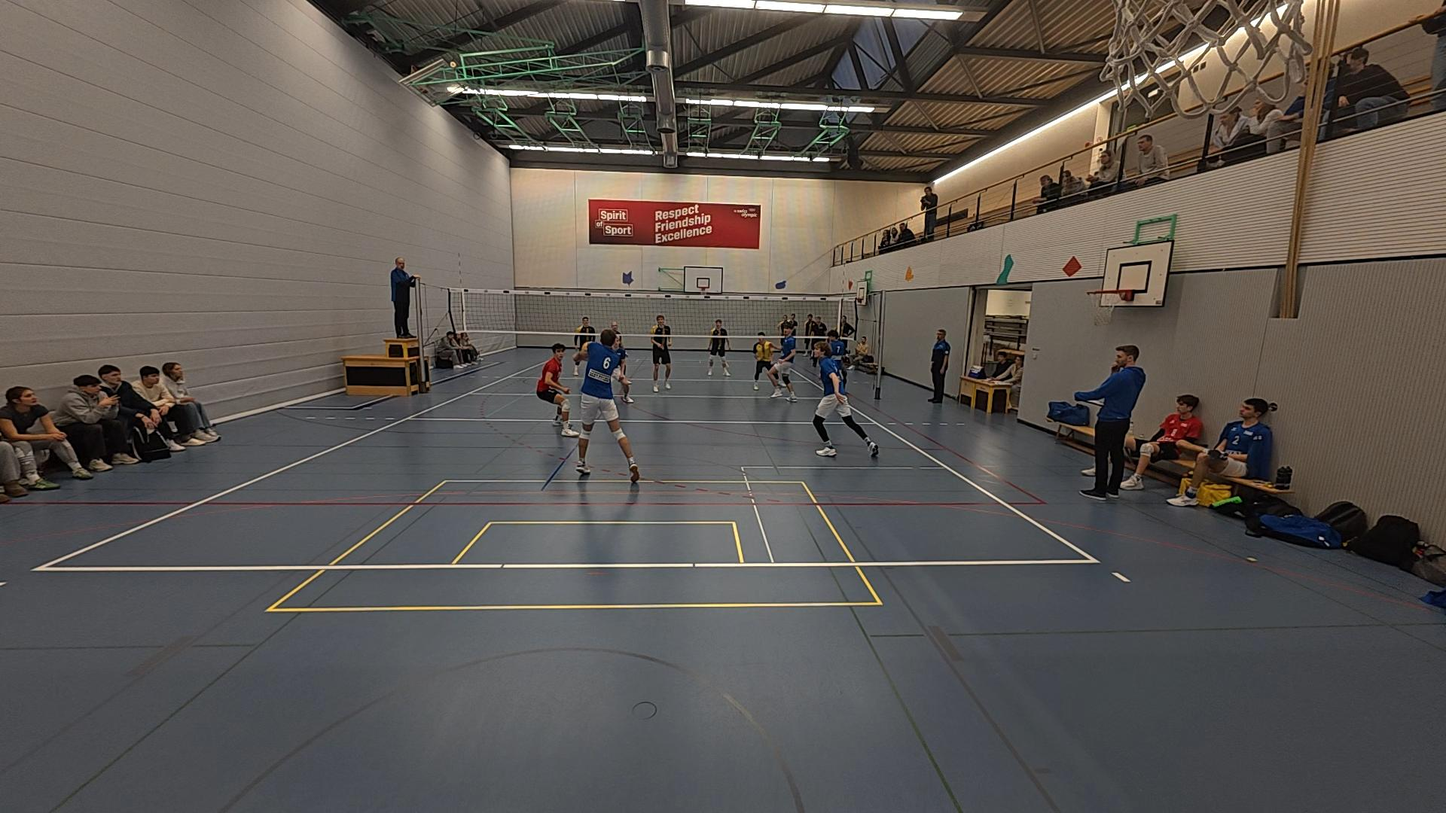Player: (812, 343, 880, 459), (535, 343, 572, 434), (767, 320, 798, 401), (607, 334, 639, 405), (750, 329, 782, 394), (647, 315, 673, 393), (823, 327, 848, 401), (703, 318, 729, 377), (608, 319, 631, 381), (572, 315, 596, 366)
Receive: (574, 328, 640, 482)
ball: (577, 338, 595, 359)
